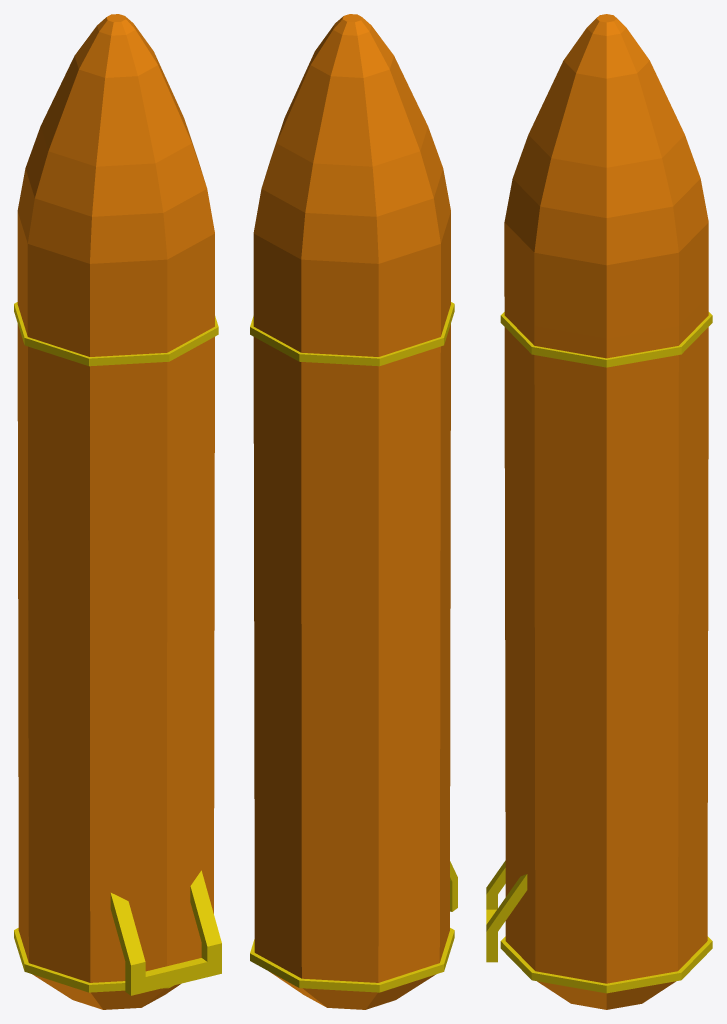
File: Shuttle External Tank.fbx
3 views of the same model, side by side, from view 1: azimuth 30°, elevation 25°; view 2: azimuth 150°, elevation 25°; view 3: azimuth 270°, elevation 25° (orthographic).
Parts seen in each view (by area): view 1: Shuttle External Tank; view 2: Shuttle External Tank; view 3: Shuttle External Tank.
Boxes of the visible parts, bbox=[...] form: Shuttle External Tank: bbox=[14, 14, 221, 1009]; Shuttle External Tank: bbox=[250, 14, 457, 1009]; Shuttle External Tank: bbox=[486, 14, 712, 1009].
Size of the model in its own units: 126 by 637 by 135.
